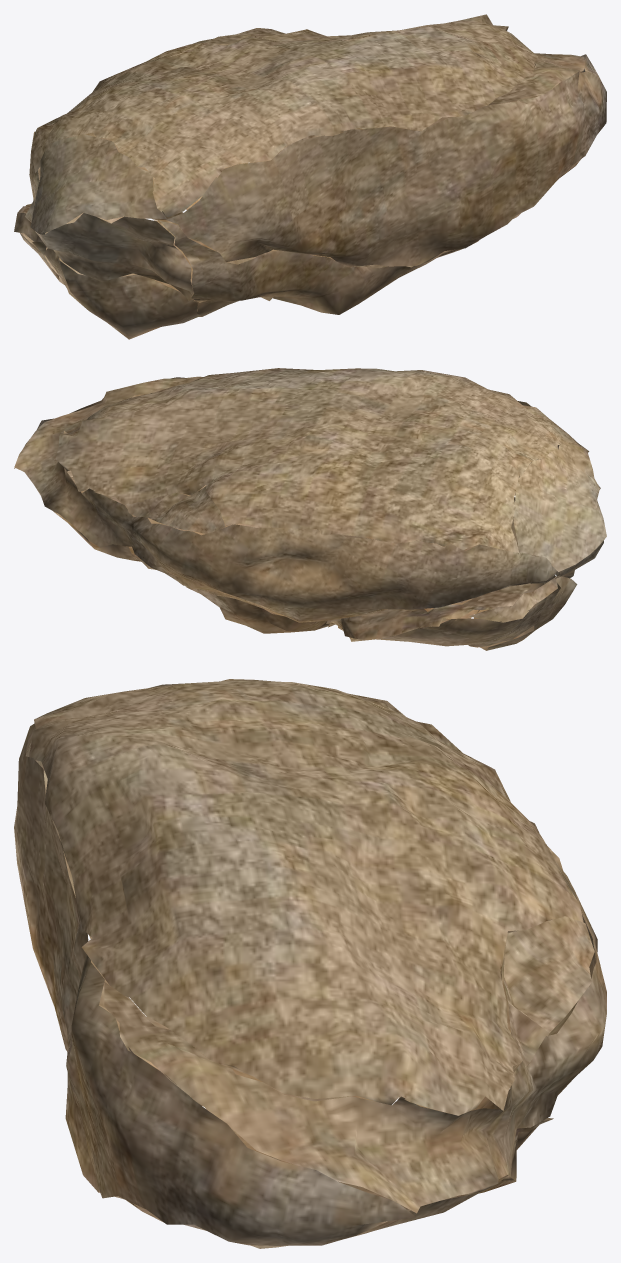
Rendered from boulder_c.glb.
3 renders of one model, top to bottom at view 1: azimuth 30°, elevation 25°; view 2: azimuth 150°, elevation 25°; view 3: azimuth 270°, elevation 25°, orthographic. The views are drawn at different scales.
Parts seen in each view (by area): view 1: namaqualand_boulder_05; view 2: namaqualand_boulder_05; view 3: namaqualand_boulder_05.
Boxes of the visible parts, box(x1,y1,x2,y2) form: namaqualand_boulder_05: box(14, 14, 606, 339); namaqualand_boulder_05: box(14, 368, 606, 650); namaqualand_boulder_05: box(14, 679, 606, 1248).
Bounding box in the file's own units: 1.36 × 0.5261 × 0.7392.
1 material, 1 textured.
